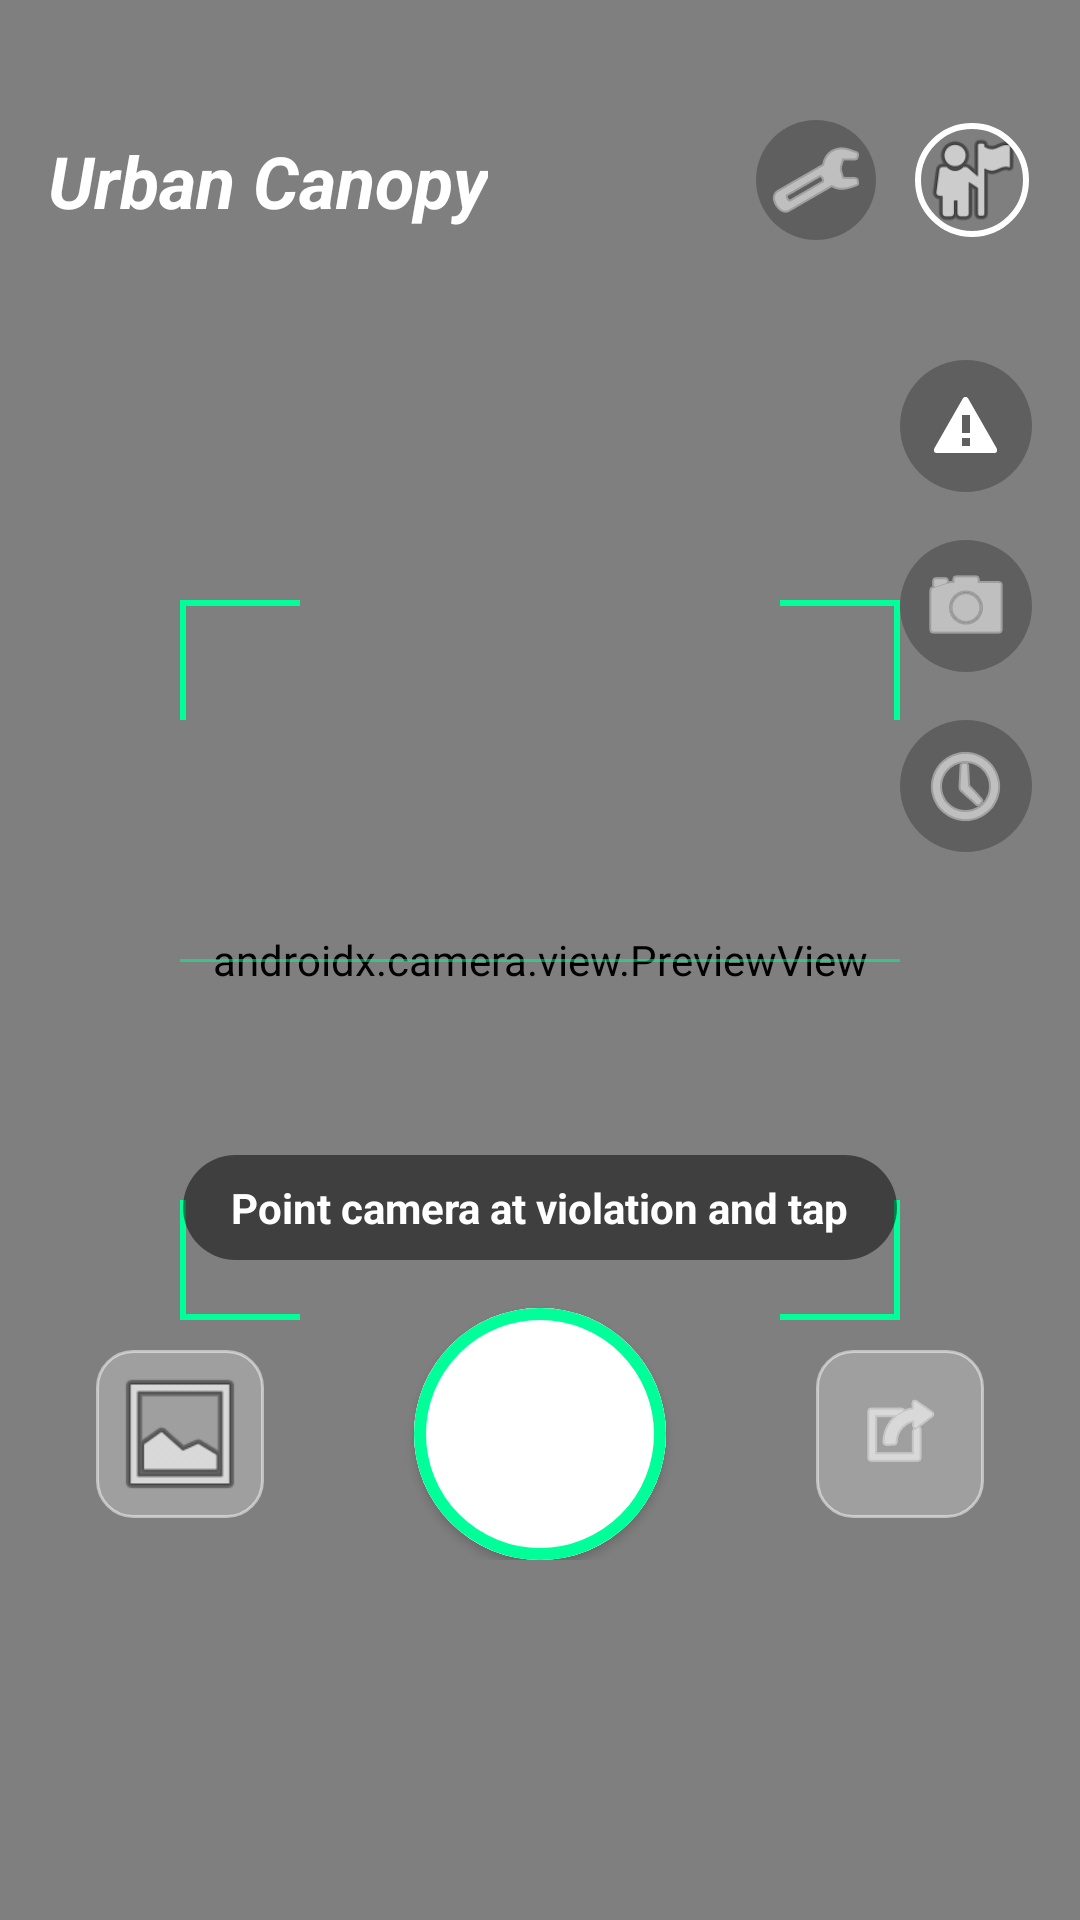

Locate icon controls on the screen. Image size 1080px×1920px, boxes as region(x1, y1, x2, y2).
gallery: region(96, 1350, 264, 1518)
manage: region(756, 120, 876, 240)
myplaces: region(915, 123, 1029, 237)
recent history: region(900, 720, 1032, 852)
set as: region(816, 1350, 984, 1518)
warning: region(900, 360, 1032, 492)
